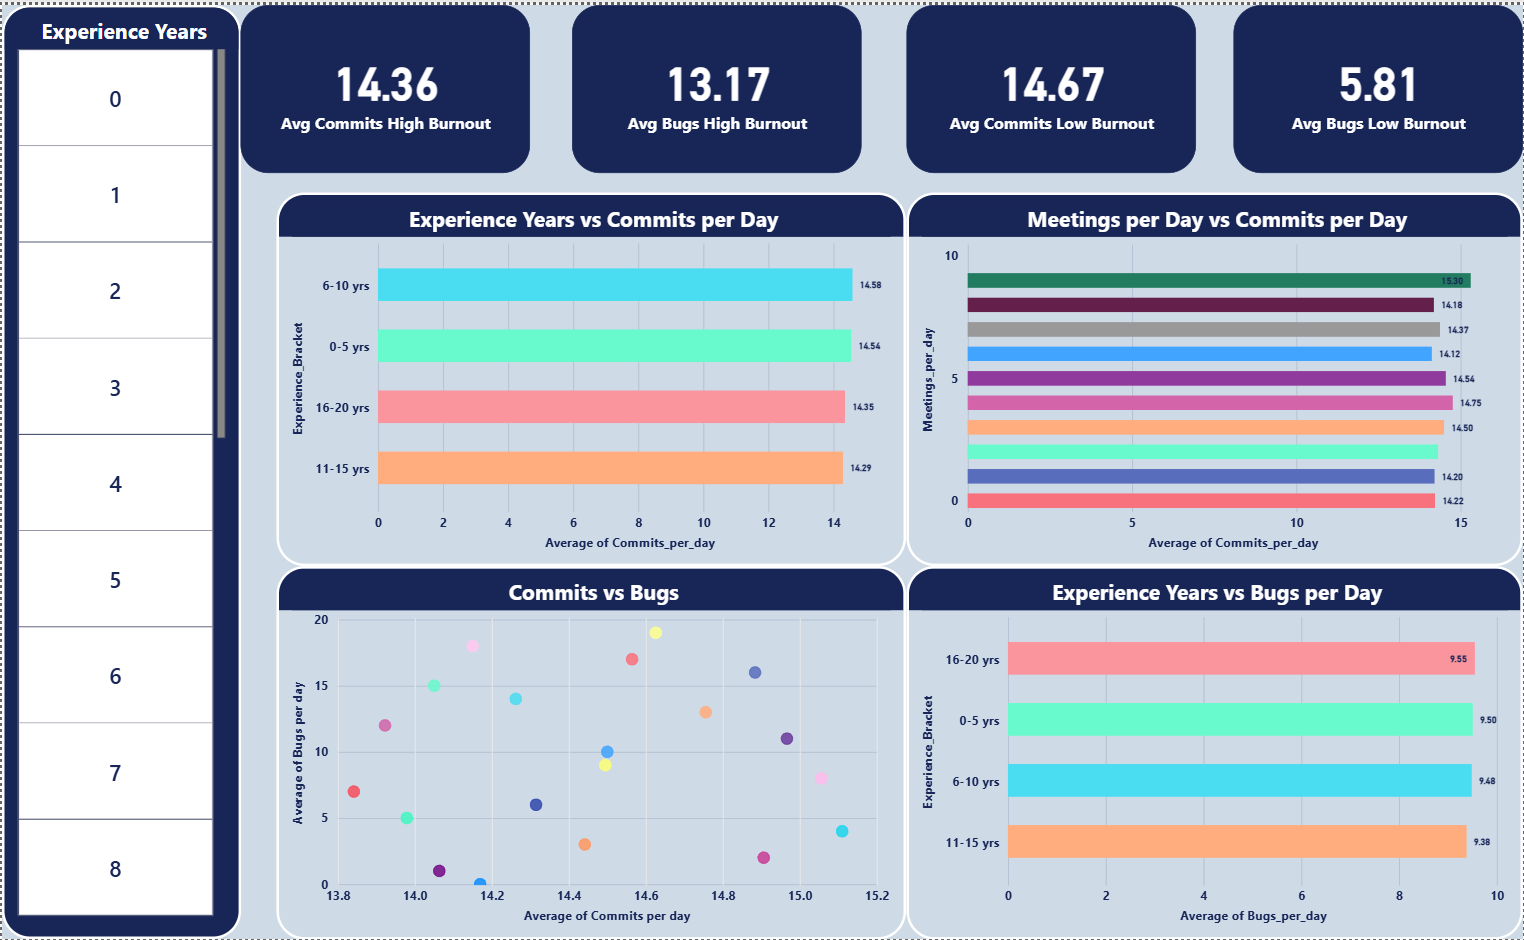

The page's visual inventory and layout, read from the dashboard file:
{"tool":"powerbi","page":{"name":"Productivity Analysis","canvas":[1628,1000],"ordinal":3},"visuals":[{"type":"advancedSlicerVisual","title":"Experience Years","fields":{"Values":["Final.Experience_years"]},"box":[0,0,256,1000],"z":0},{"type":"clusteredBarChart","title":"Experience Years vs Bugs per Day","fields":{"Y":["Avg(Final.Bugs_per_day)"],"Category":["Final.Experience_Bracket"]},"box":[968,600,660,400],"z":1000},{"type":"clusteredBarChart","title":"Meetings per Day vs Commits per Day","fields":{"Category":["Final.Meetings_per_day"],"Y":["Avg(Final.Commits_per_day)"]},"box":[968,200,660,400],"z":2000},{"type":"scatterChart","title":"Commits vs Bugs","fields":{"X":["Avg(Final.Commits_per_day)"],"Y":["Avg(Final.Bugs_per_day)"],"Category":["Final.Bugs_per_day","Final.Commits_per_day"]},"box":[294,600,674,400],"z":3000},{"type":"card","fields":{"Values":["Final.Avg Commits High Burnout"]},"box":[256,0,310,180],"z":4000},{"type":"card","fields":{"Values":["Final.Avg Bugs High Burnout"]},"box":[610,0,310,180],"z":5000},{"type":"card","fields":{"Values":["Final.Avg Commits Low Burnout"]},"box":[968,0,310,180],"z":6000},{"type":"card","fields":{"Values":["Final.Avg Bugs Low Burnout"]},"box":[1318,0,310,180],"z":7000},{"type":"clusteredBarChart","title":"Experience Years vs Commits per Day","fields":{"Y":["Avg(Final.Commits_per_day)"],"Category":["Final.Experience_Bracket"]},"box":[294,200,674,400],"z":8000}]}

Visuals, with their boxes in screenshot pixels (x1, y1, x2, y2), scaled from the page's 1628x1000 canvas onto the 1524x940 screenshot:
"Experience Years" advancedSlicerVisual: (0,0,240,939)
"Experience Years vs Bugs per Day" clusteredBarChart: (906,564,1523,939)
"Meetings per Day vs Commits per Day" clusteredBarChart: (906,188,1523,564)
"Commits vs Bugs" scatterChart: (275,564,906,939)
card - Final.Avg Commits High Burnout: (240,0,530,169)
card - Final.Avg Bugs High Burnout: (571,0,861,169)
card - Final.Avg Commits Low Burnout: (906,0,1196,169)
card - Final.Avg Bugs Low Burnout: (1234,0,1523,169)
"Experience Years vs Commits per Day" clusteredBarChart: (275,188,906,564)
